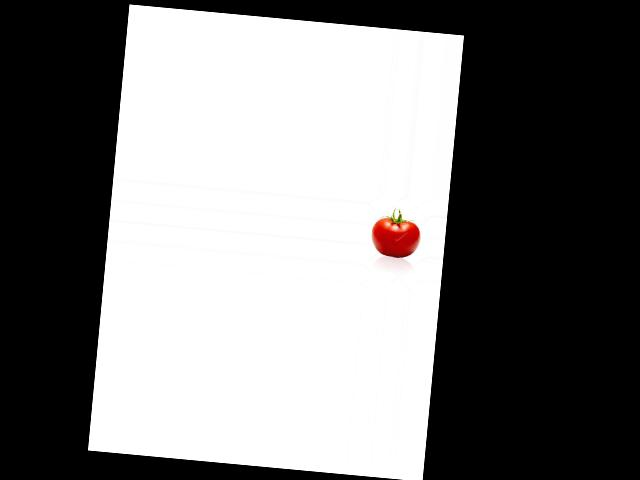tomato: (369, 216, 422, 259)
